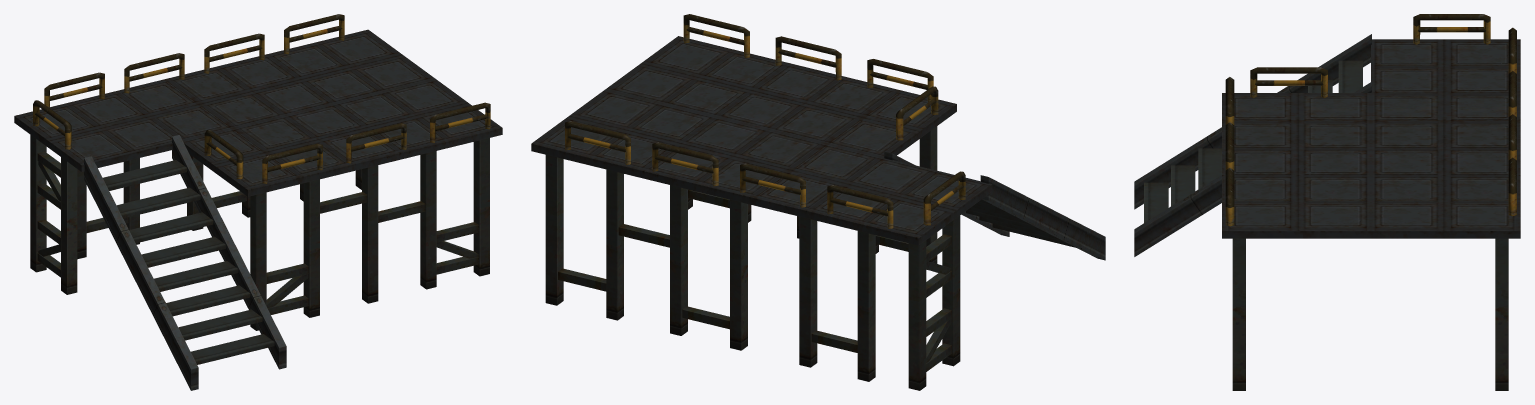
The model's file is Stage-gongchang-fujian1.FBX.
3 views of the same model, side by side, from view 1: azimuth 30°, elevation 25°; view 2: azimuth 150°, elevation 25°; view 3: azimuth 270°, elevation 25° (orthographic). The views are drawn at different scales.
Parts seen in each view (by area): view 1: Object142; view 2: Object142; view 3: Object142.
Boxes of the visible parts, <box> form: Object142: <box>14,14,502,390</box>; Object142: <box>531,14,1105,390</box>; Object142: <box>1134,14,1520,390</box>.
Bounding box in the file's own units: 16.78 × 14.27 × 7.91.
